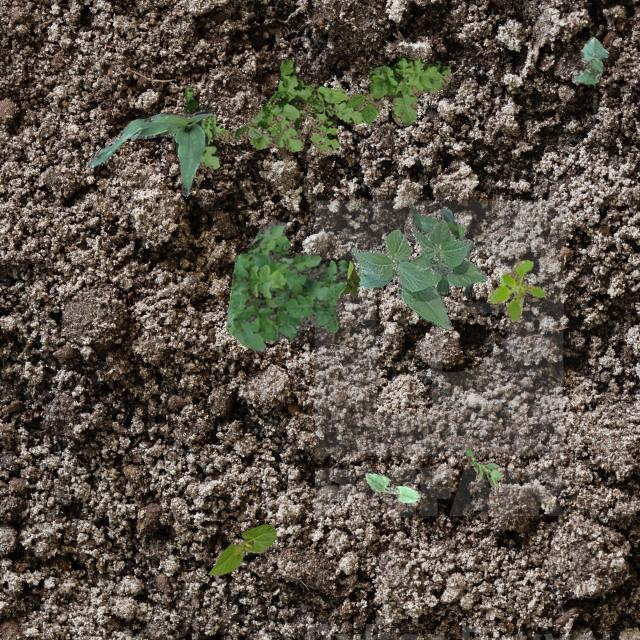crop: (350, 218, 486, 328), (86, 108, 212, 195), (410, 202, 472, 296), (208, 524, 274, 574), (570, 36, 608, 82), (364, 472, 420, 502)
weed: (182, 54, 450, 170), (226, 220, 352, 350), (486, 258, 544, 320), (464, 448, 502, 486), (340, 260, 360, 296)
